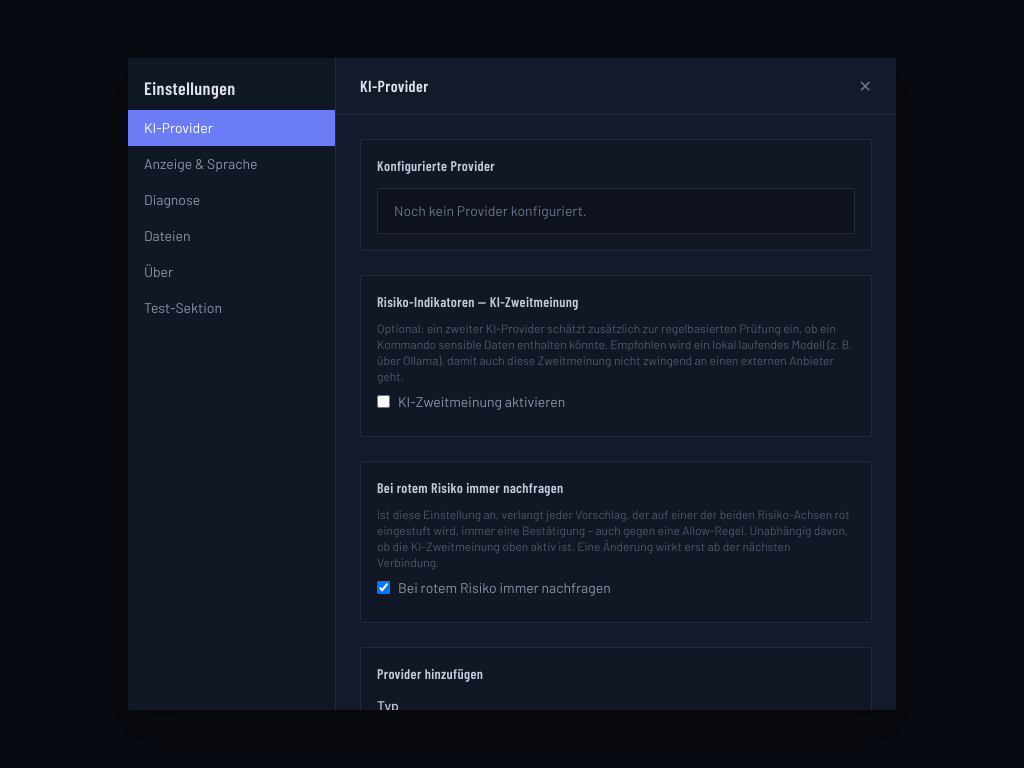
it: SettingsScreen registered sections (Spec 0050, Fund 1.2) › shows a registered settings section as its own nav entry and renders its content on click
Expected: the text "test-section-content" is not shown
Click the button "Test-Sektion": point(232, 308) x1=128 y1=290 x2=335 y2=326
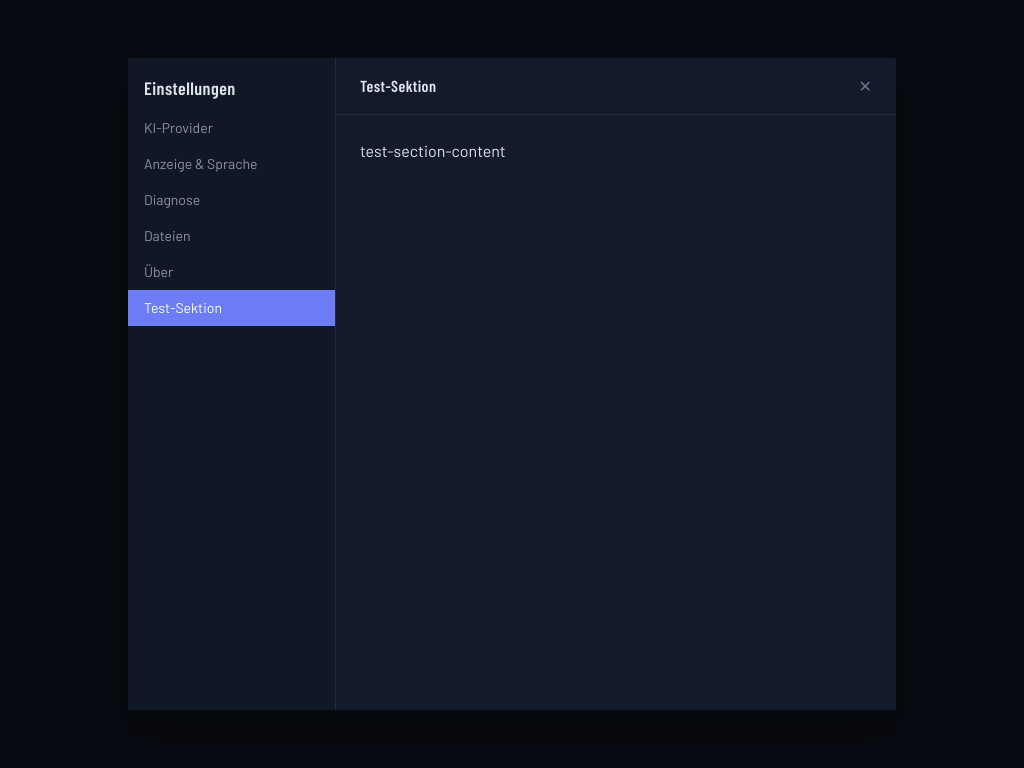
Expected: the text "test-section-content" is shown, x1=360 y1=141 x2=506 y2=160
